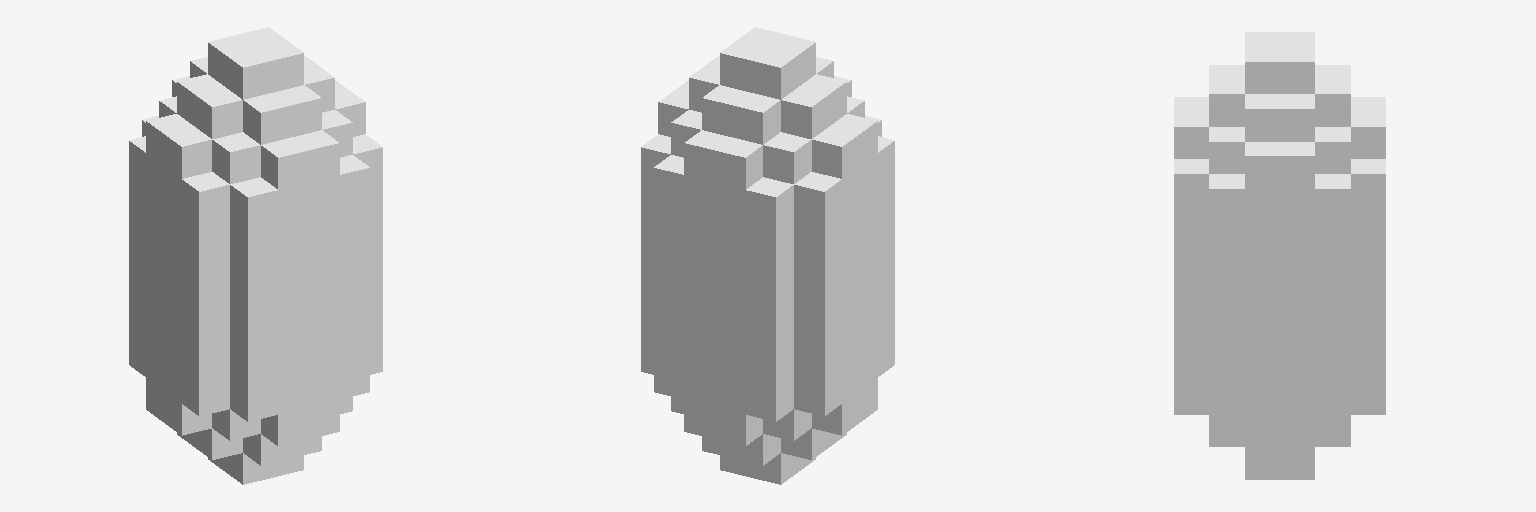
Rendered from stonegem.obj.
The picture shows the model from 3 angles: view 1: azimuth 30°, elevation 25°; view 2: azimuth 150°, elevation 25°; view 3: azimuth 270°, elevation 25°; orthographic projection.
Bounding box in the file's own units: 6 × 13 × 6.